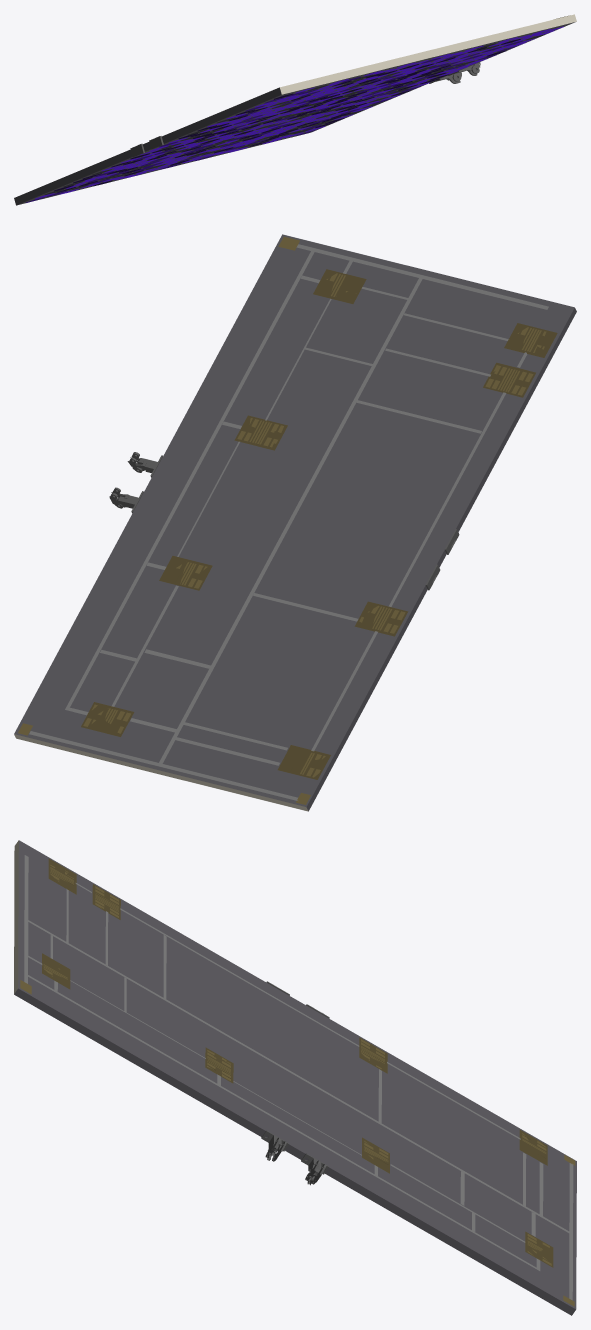
File: Panel_izquierda1.obj
3 views of the same model, one above another, from view 1: azimuth 30°, elevation 25°; view 2: azimuth 150°, elevation 25°; view 3: azimuth 270°, elevation 25° (orthographic). The views are drawn at different scales.
Visible parts, largest first — view 1: Panele_izquierdo1_cal_solar_back, Panele_izquierdo1_cal_solar_1, Panele_izquierdo1_cal_solar_4, Panele_izquierdo1_cal_solar_side, Panele_izquierdo1_cal_solar_2, Panele_izquierdo1_cal_solar_3, Panele_izquierdo1_cal_solar_6, Panele_izquierdo1_cal_solar_5, Panele_izquierdo1_cal_solar_7, Panele_izquierdo1_cal_grey; view 2: Panele_izquierdo1_cal_solar_back, Panele_izquierdo1_cal_silver, Panele_izquierdo1_cal_brown, Panele_izquierdo1_cal_bronze, Panele_izquierdo1_cal_solar_side, Panele_izquierdo1_cal_grey; view 3: Panele_izquierdo1_cal_solar_back, Panele_izquierdo1_cal_silver, Panele_izquierdo1_cal_brown, Panele_izquierdo1_cal_bronze, Panele_izquierdo1_cal_grey, Panele_izquierdo1_cal_solar_side.
Part boxes in pixels (x1,y1,x2,y2): Panele_izquierdo1_cal_solar_back: (14,22,575,205); Panele_izquierdo1_cal_solar_1: (35,30,554,198); Panele_izquierdo1_cal_solar_4: (25,40,523,202); Panele_izquierdo1_cal_solar_side: (280,14,576,94); Panele_izquierdo1_cal_solar_2: (59,37,535,194); Panele_izquierdo1_cal_solar_3: (75,26,563,188); Panele_izquierdo1_cal_solar_6: (44,34,544,194); Panele_izquierdo1_cal_solar_5: (57,39,520,192); Panele_izquierdo1_cal_solar_7: (54,57,455,191); Panele_izquierdo1_cal_grey: (130,62,480,157); Panele_izquierdo1_cal_solar_back: (14,234,576,811); Panele_izquierdo1_cal_silver: (29,244,548,800); Panele_izquierdo1_cal_brown: (81,269,557,779); Panele_izquierdo1_cal_bronze: (18,236,546,804); Panele_izquierdo1_cal_solar_side: (14,734,308,811); Panele_izquierdo1_cal_grey: (109,452,459,590); Panele_izquierdo1_cal_solar_back: (14,840,576,1315); Panele_izquierdo1_cal_silver: (24,855,573,1300); Panele_izquierdo1_cal_brown: (42,858,553,1267); Panele_izquierdo1_cal_bronze: (20,865,575,1306); Panele_izquierdo1_cal_grey: (261,981,329,1185); Panele_izquierdo1_cal_solar_side: (14,840,18,993).
Bounding box in the file's own units: 8.83 × 8.16 × 12.7.
